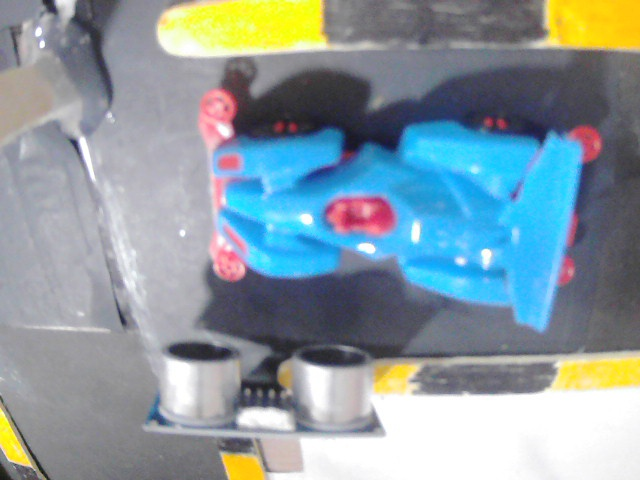car: (197, 93, 618, 337)
uno_breadboard: (149, 334, 401, 448)
